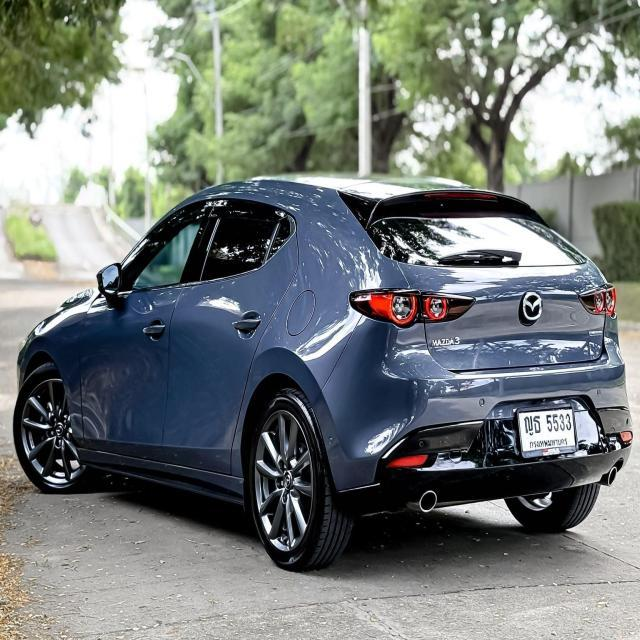Hatchback: (12, 175, 634, 574)
